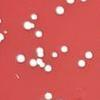white: (83, 48, 96, 62), (54, 4, 66, 17), (75, 58, 87, 71), (15, 52, 27, 65), (21, 20, 32, 32), (33, 28, 44, 40), (41, 90, 54, 100), (43, 62, 53, 74), (59, 44, 70, 54), (50, 49, 60, 60), (29, 58, 38, 70), (29, 12, 40, 21), (64, 0, 78, 7), (34, 46, 45, 54), (35, 56, 44, 65), (35, 51, 45, 59), (38, 60, 46, 69), (0, 32, 5, 44), (29, 22, 36, 30), (2, 28, 9, 35), (78, 0, 89, 4), (0, 15, 3, 25)
